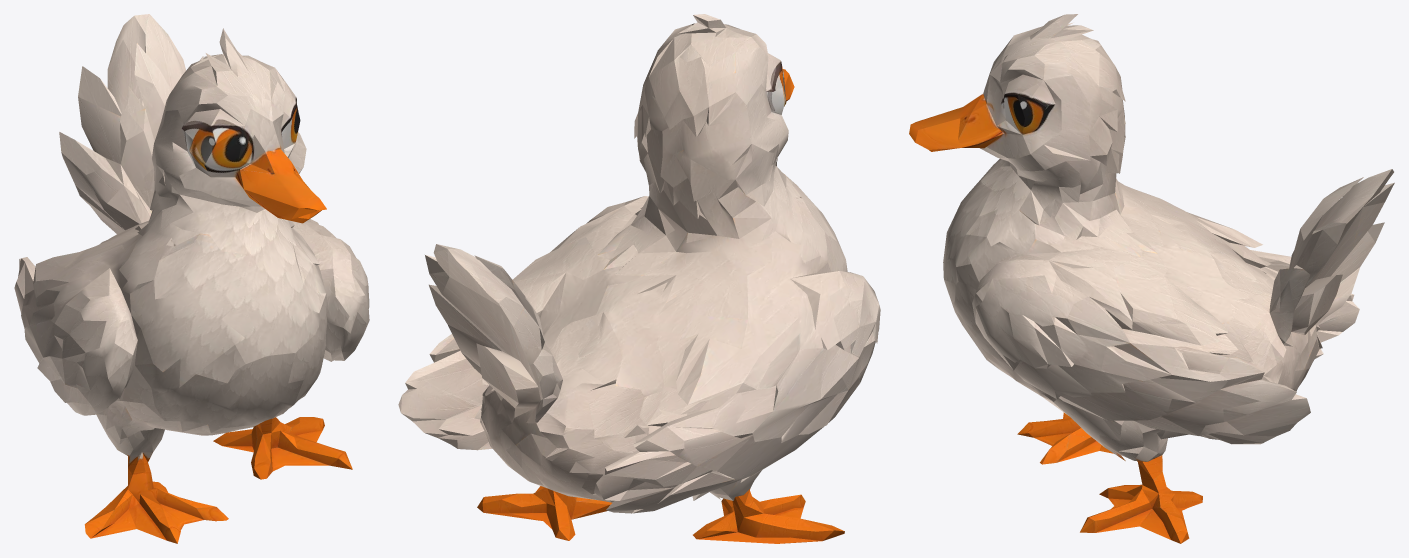
The model's file is duck-white.glb.
The picture shows the model from 3 angles, left to right: view 1: azimuth 30°, elevation 25°; view 2: azimuth 150°, elevation 25°; view 3: azimuth 270°, elevation 25°; orthographic projection. The views are drawn at different scales.
Bounding box in the file's own units: 0.3943 × 0.55 × 0.5299.
Materials: 1 (1 with a texture image).
